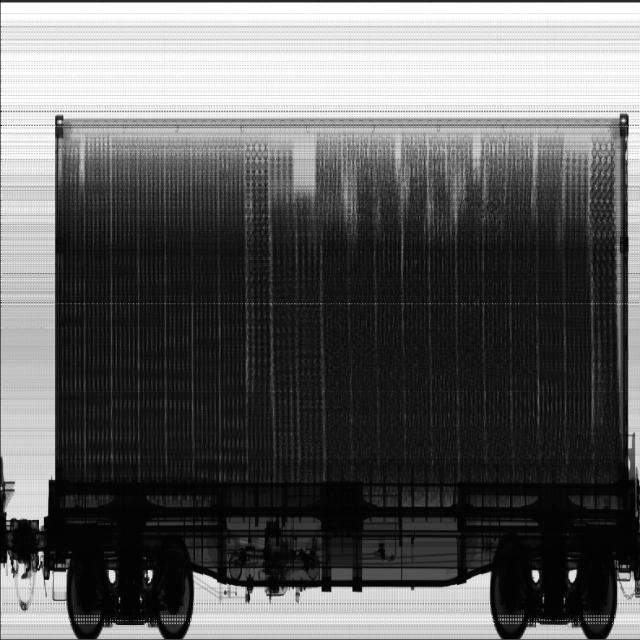table ware: (57, 130, 622, 482)
